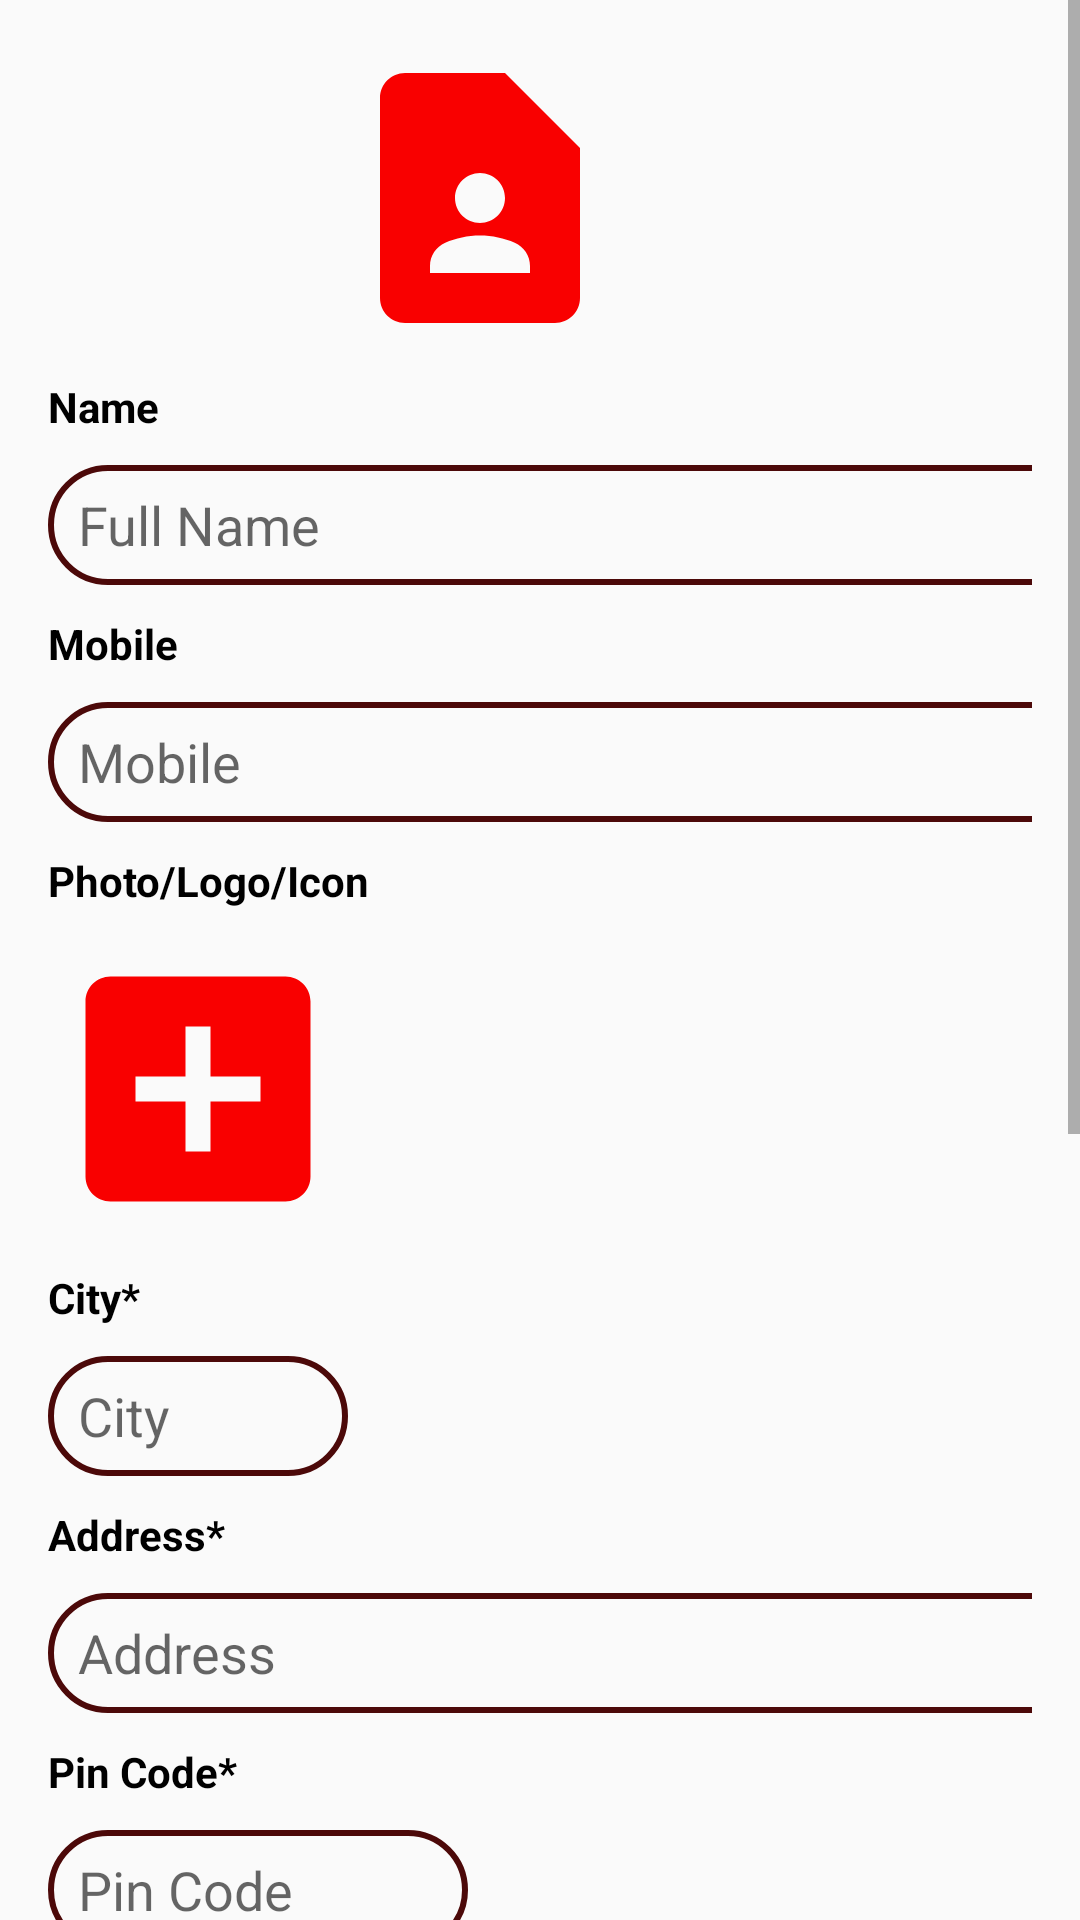

Named icons in this screenshot (1080px×1920px) and their centers, (x,y):
add profile: (198,1089)
